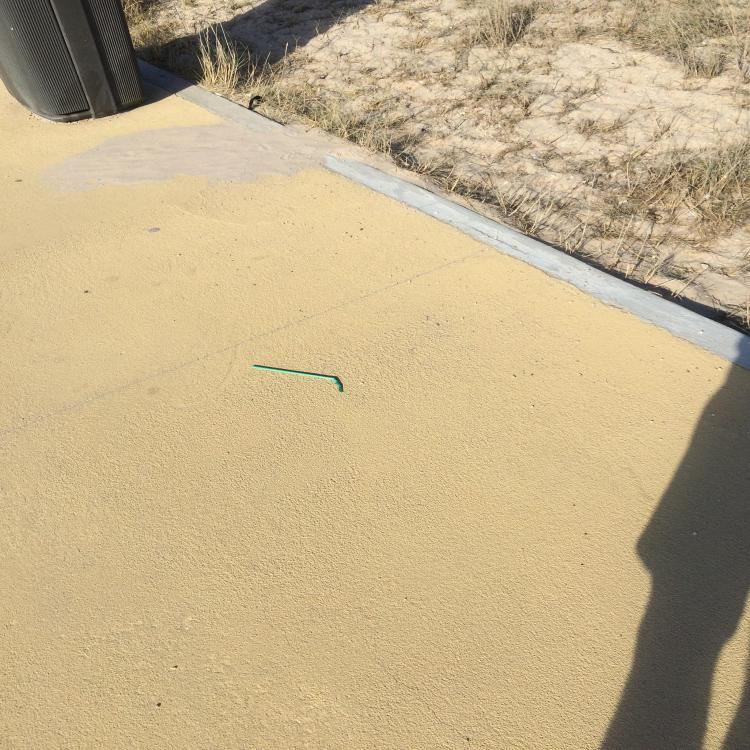Cigarette: (554, 105, 564, 108)
Plastic straw: (251, 365, 343, 393)
